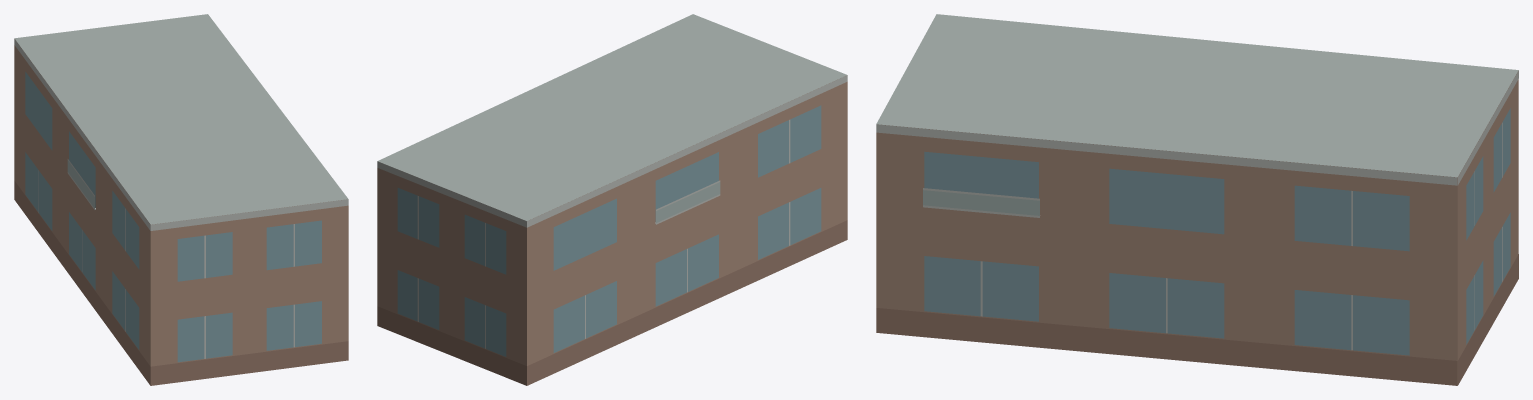
Rendered from survey-upis-32810817.glb.
3 views of the same model, side by side, from view 1: azimuth 30°, elevation 25°; view 2: azimuth 150°, elevation 25°; view 3: azimuth 270°, elevation 25° (orthographic). The views are drawn at different scales.
Parts seen in each view (by area): view 1: survey-upis-32810817.tmp; view 2: survey-upis-32810817.tmp; view 3: survey-upis-32810817.tmp.
Part boxes in pixels (x1,y1,x2,y2): survey-upis-32810817.tmp: (14, 14, 348, 385); survey-upis-32810817.tmp: (377, 14, 847, 385); survey-upis-32810817.tmp: (876, 14, 1518, 385).
Bounding box in the file's own units: 10.26 × 6.1 × 17.05.
